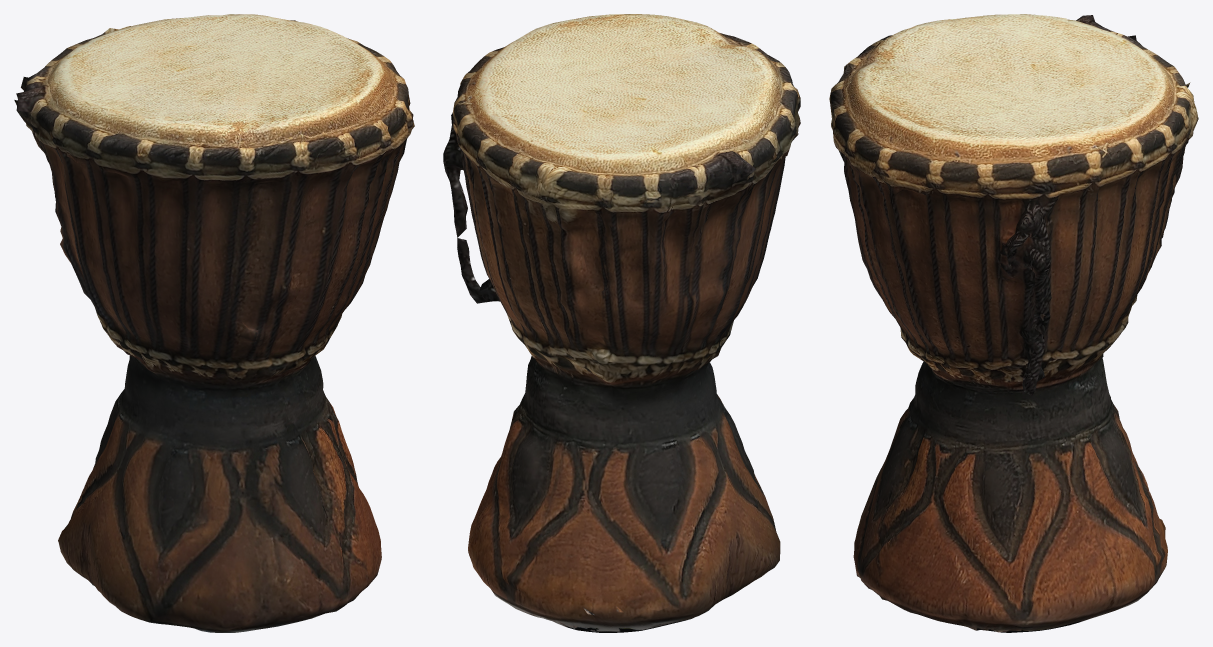
Rendered from small_djembe.glb.
3 renders of one model, left to right at view 1: azimuth 30°, elevation 25°; view 2: azimuth 150°, elevation 25°; view 3: azimuth 270°, elevation 25°, orthographic. The views are drawn at different scales.
Visible parts, largest first — view 1: Model; view 2: Model; view 3: Model.
Boxes of the visible parts, bbox=[...] form: Model: bbox=[14, 14, 414, 632]; Model: bbox=[443, 14, 800, 632]; Model: bbox=[829, 14, 1198, 632].
Size of the model in its own units: 0.1326 by 0.1969 by 0.1271.
1 material, 1 textured.
